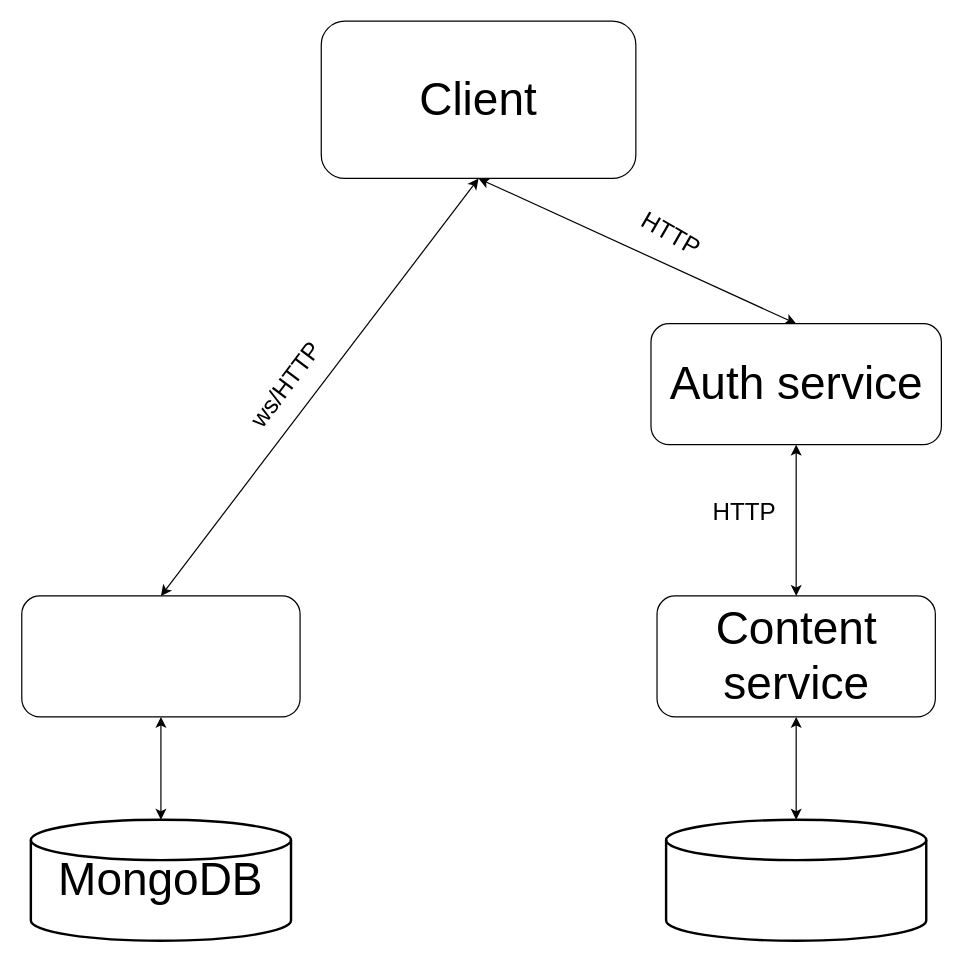
Image size: 962x963. Some labels were removed from this diagram. Each missing label, with the centre of its shape:
"Chat service" goes at [160,656].
"MySQL" goes at [795,879].
